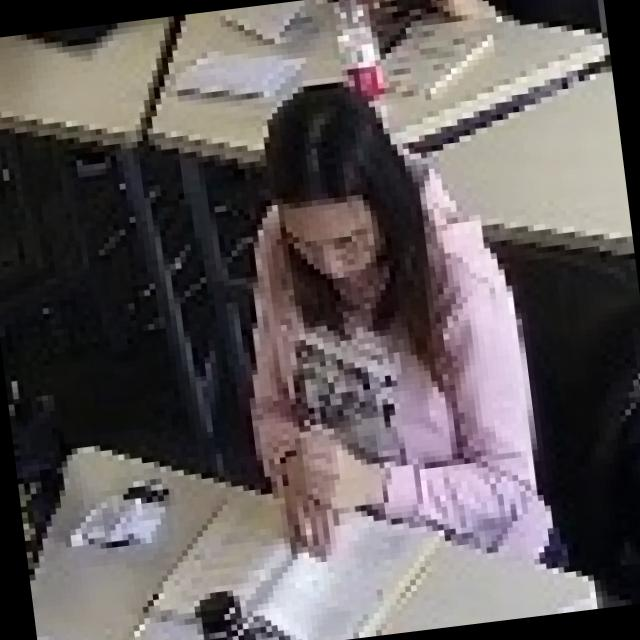write: (194, 54, 558, 618)
